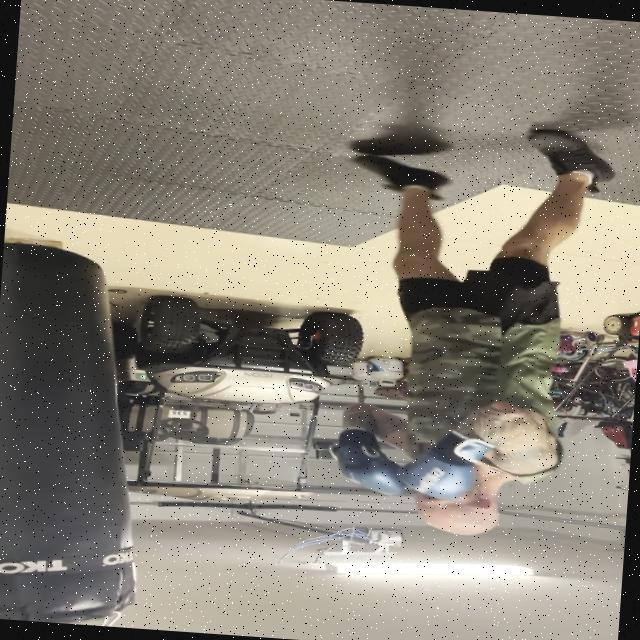bag: (285, 514, 624, 570), (463, 428, 574, 514)
